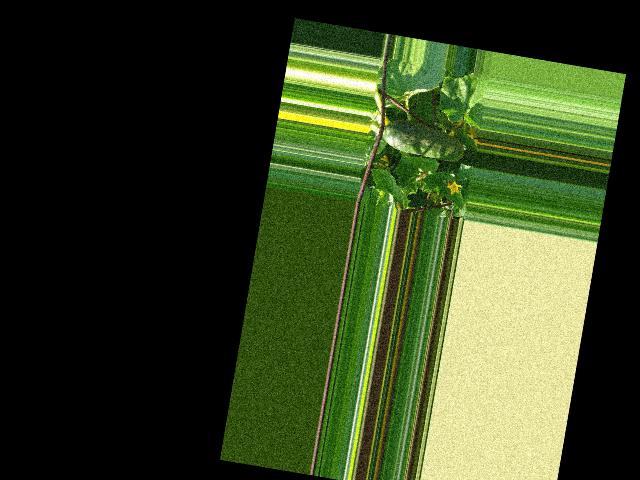cucumber: (380, 115, 468, 163)
